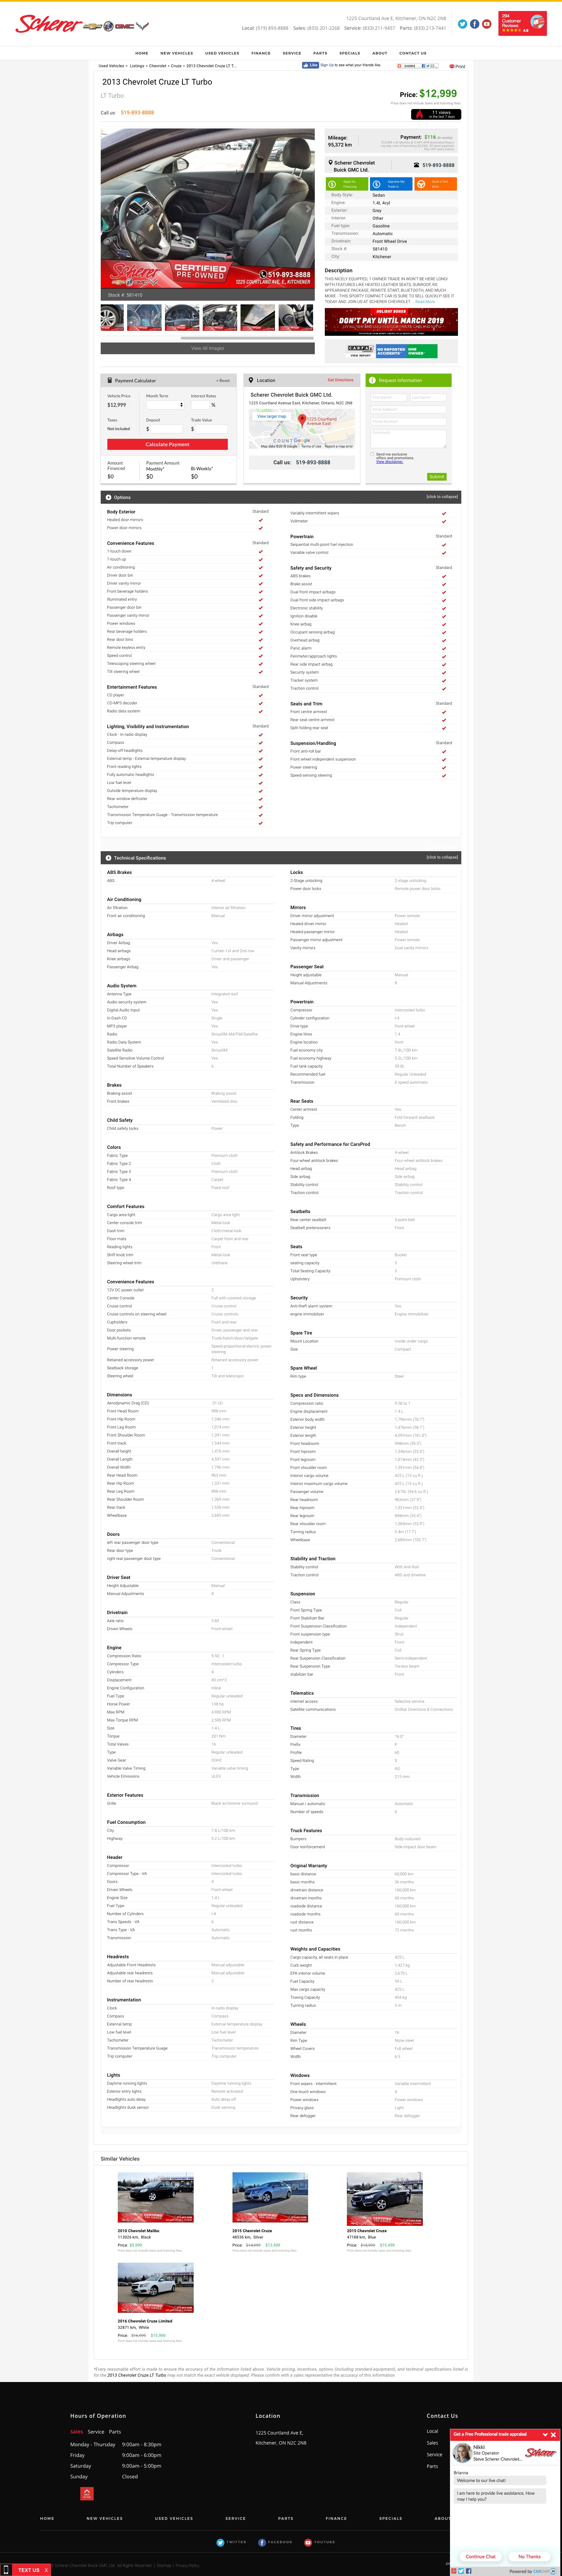car: (311, 335, 316, 342)
